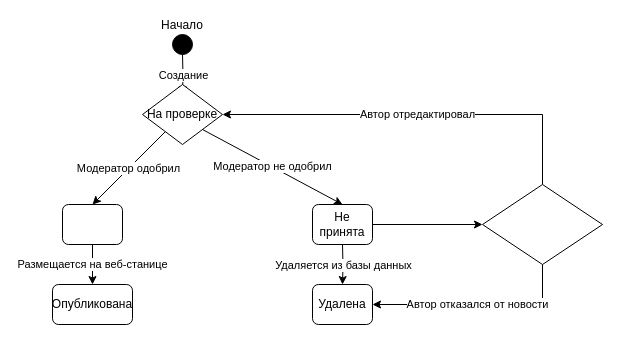
The diagram is 620 pixels wide and 342 high, and some of its shapes have lost their labels. Each missing label, with the centre of its shape:
"Автор редактирует" belongs at pixel 542 224.
"Принята" belongs at pixel 92 224.
